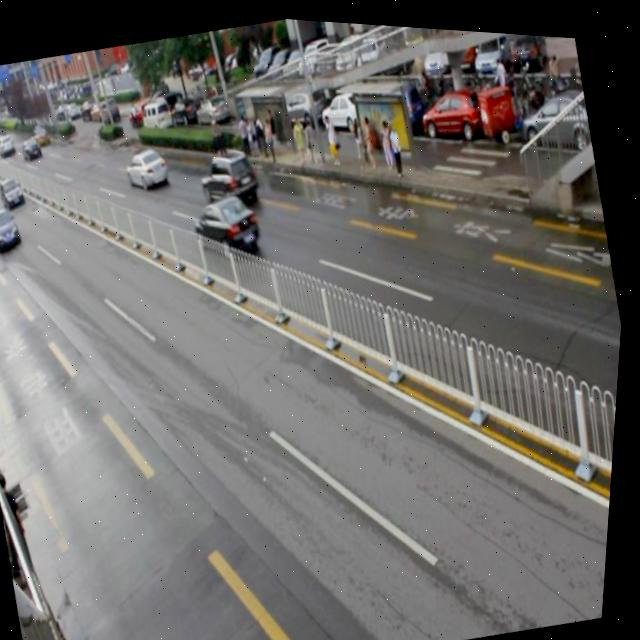car: (191, 187, 269, 263), (195, 139, 266, 211), (122, 142, 174, 192), (0, 205, 28, 256)
